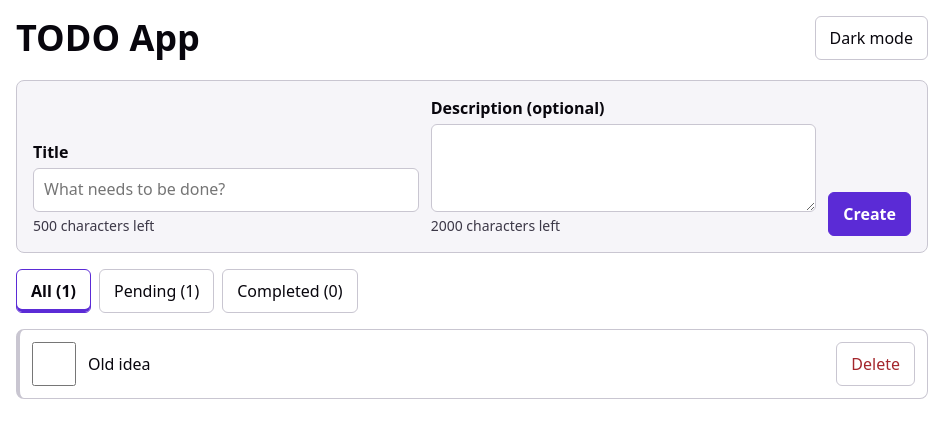
Feature: Task management (acceptance scenarios) › Scenario: Delete task (FR5 / AC5) › removes the task from the list and from localStorage
The width and height of the screenshot is (945, 435).
// When the user clicks the delete button
Click the button with test id "delete-task". click: click(876, 364)
box: [836,342,915,386]
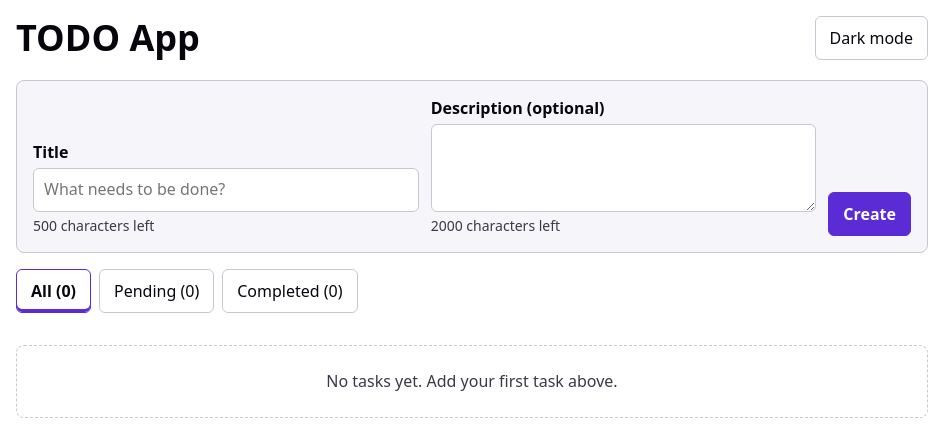
Result: no list items with test id "task-item" are shown
